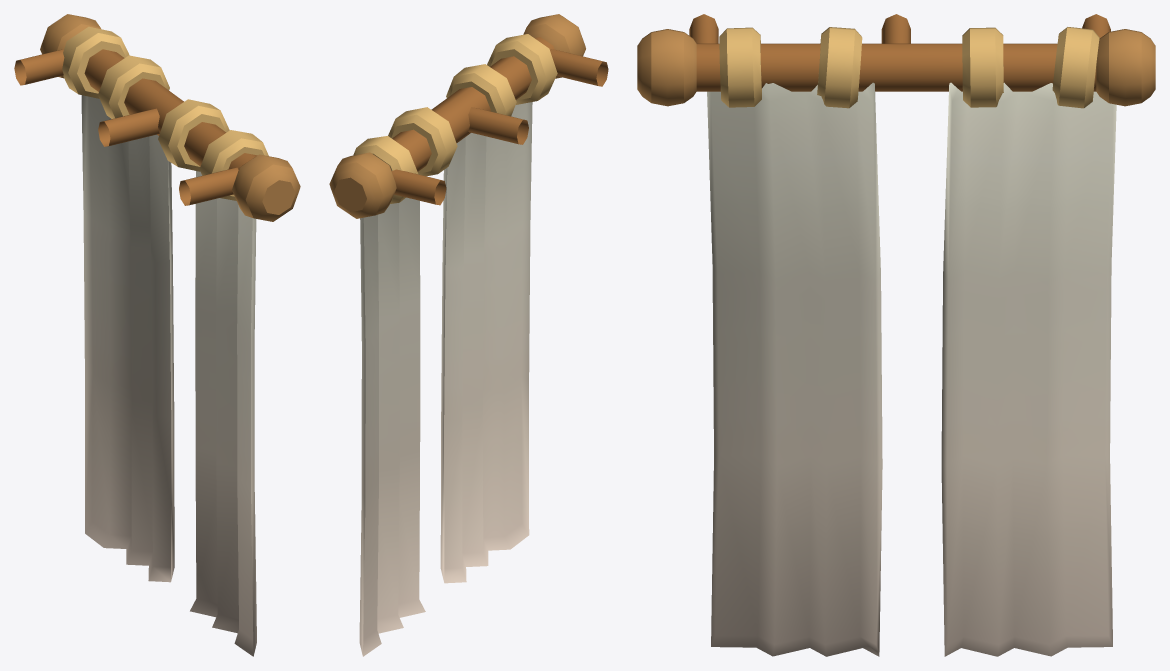
File: Curtains_Short_2_C_M.glb
The picture shows the model from 3 angles, left to right: view 1: azimuth 30°, elevation 25°; view 2: azimuth 150°, elevation 25°; view 3: azimuth 270°, elevation 25°; orthographic projection. The views are drawn at different scales.
Parts seen in each view (by area): view 1: Curtains_Short_2_C_M; view 2: Curtains_Short_2_C_M; view 3: Curtains_Short_2_C_M.
Boxes of the visible parts, box(x1,y1,x2,y2) form: Curtains_Short_2_C_M: box(14, 14, 300, 656); Curtains_Short_2_C_M: box(329, 14, 608, 656); Curtains_Short_2_C_M: box(637, 14, 1155, 656).
Bounding box in the file's own units: 0.2275 × 1.16 × 0.8807.
Materials: 1 (1 with a texture image).
